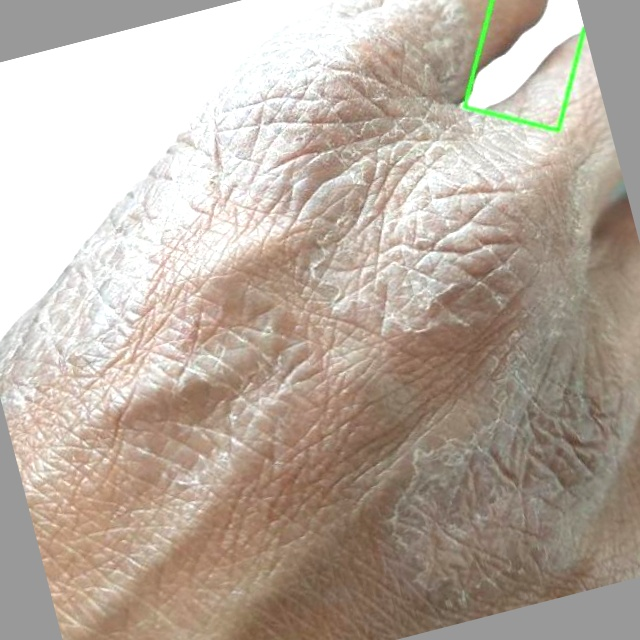Contact Dermatitis: (463, 0, 561, 131)
